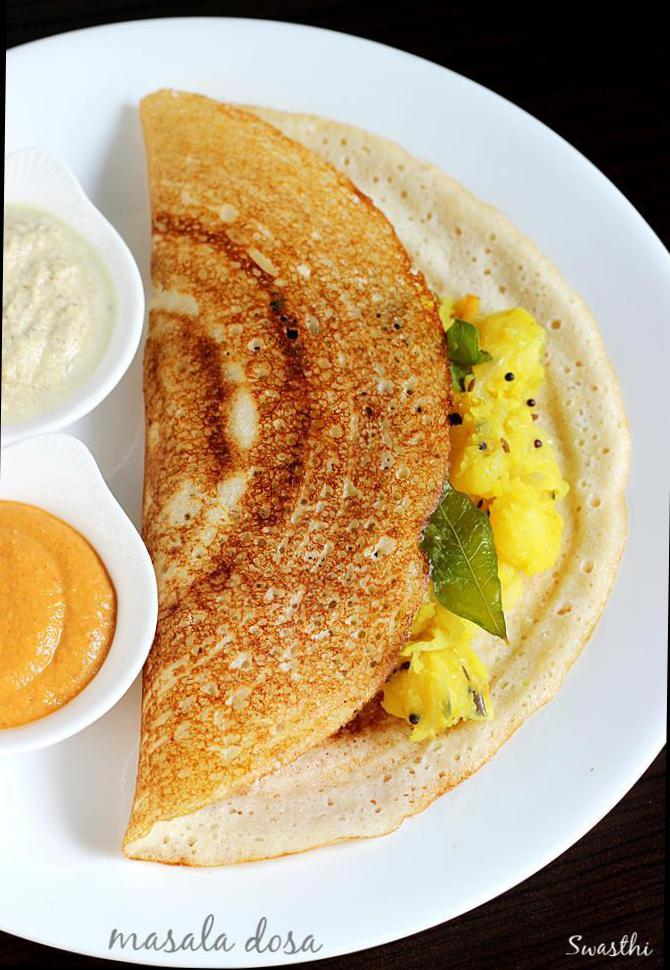dosa: (136, 88, 620, 868)
